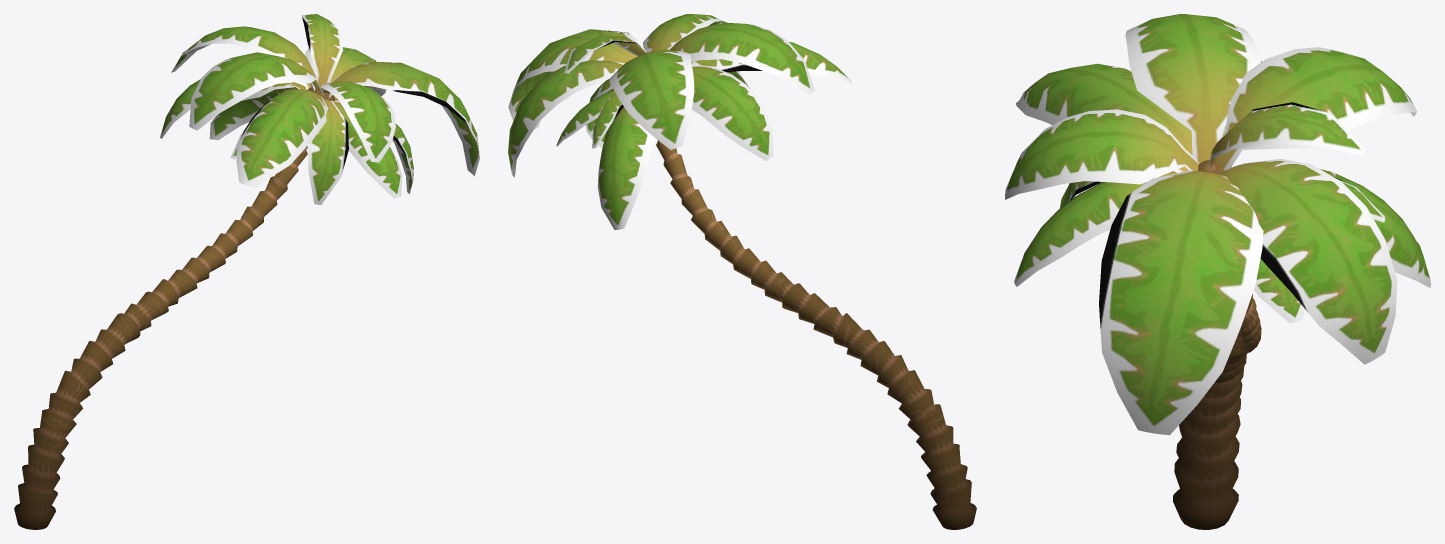
Rendered from palm_tall.glb.
3 views of the same model, side by side, from view 1: azimuth 30°, elevation 25°; view 2: azimuth 150°, elevation 25°; view 3: azimuth 270°, elevation 25° (orthographic). The views are drawn at different scales.
Parts seen in each view (by area): view 1: body; view 2: body; view 3: body.
Part boxes in pixels (box(x1,y1,x2,y2)): body: box(14, 14, 479, 529); body: box(508, 14, 976, 529); body: box(1005, 14, 1430, 529).
Size of the model in its own units: 4.91 by 4.41 by 2.57.
2 materials, 2 textured.
